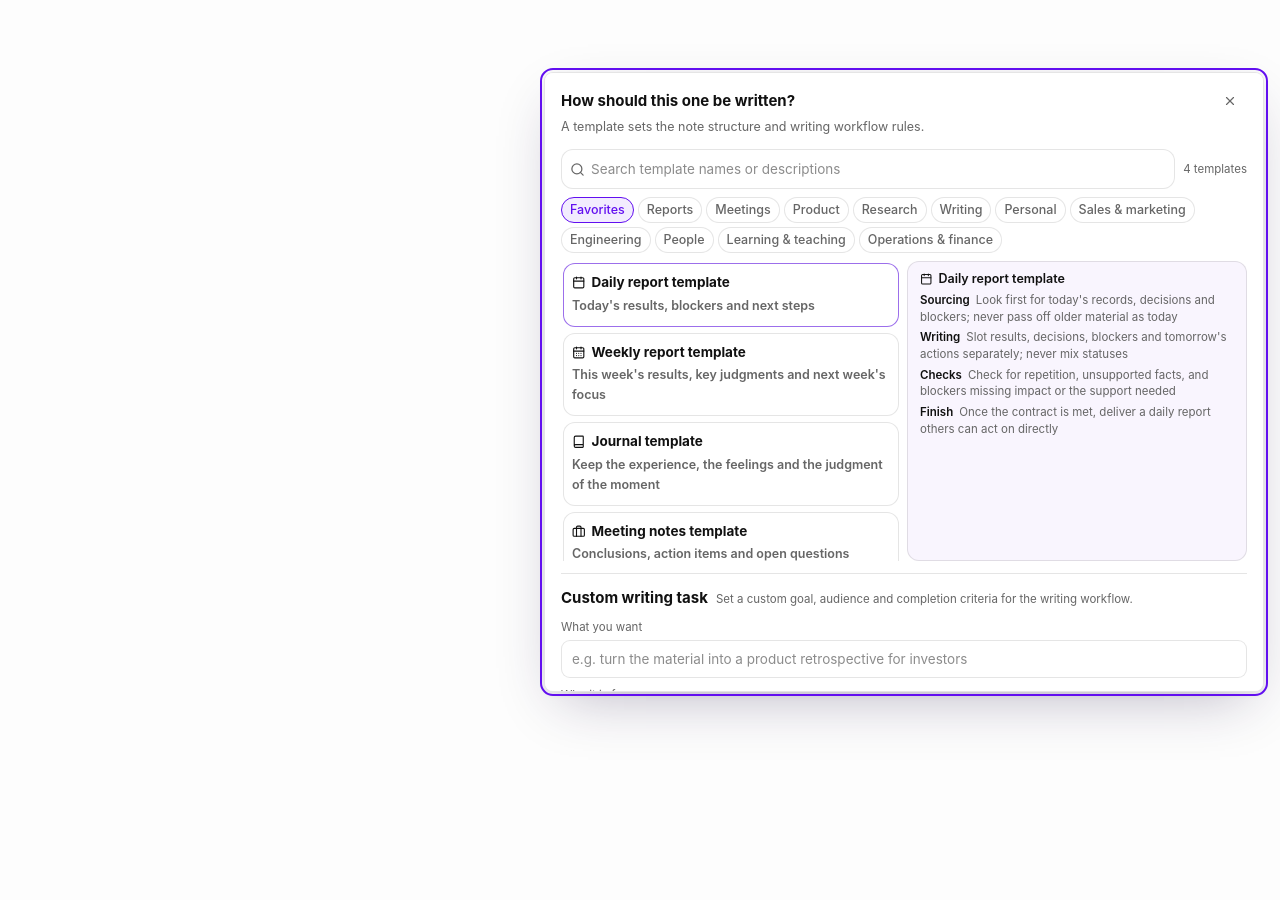
Test: WritingWorkflowPicker › a tab switches category with matching card count; hovering / focusing a card moves the detail to it
Click the tab "Product": (816, 210) [784,197,849,223]
(page scrolled)
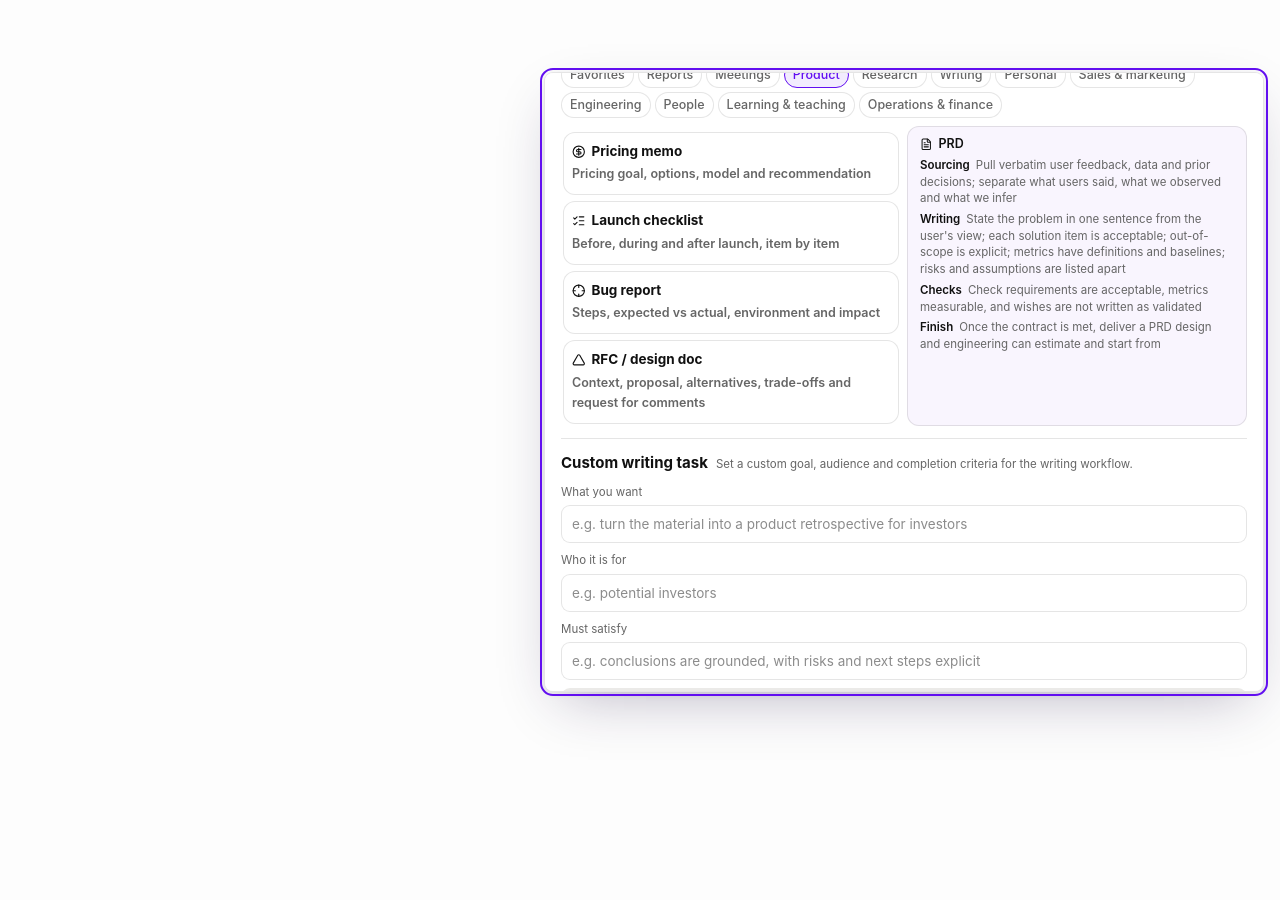
Expected: the tab "Product" is selected, [784,72,849,88]
Hover over the button with class "workflow-card" that starts with "RFC / design doc": (731, 382) [563,340,899,424]
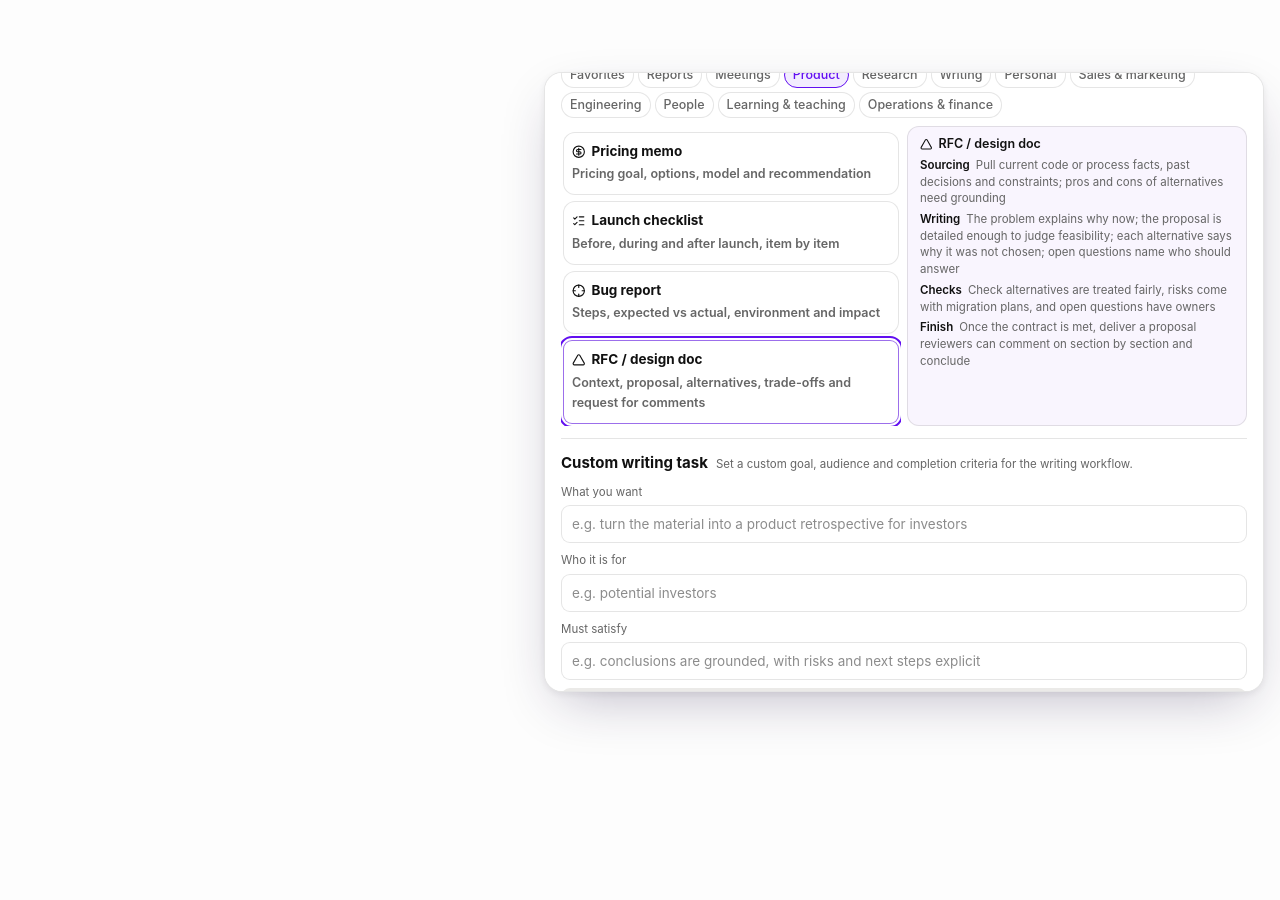
Expected: the element with class "workflow-detail" shows "RFC / design doc", [938,136,1041,151]
